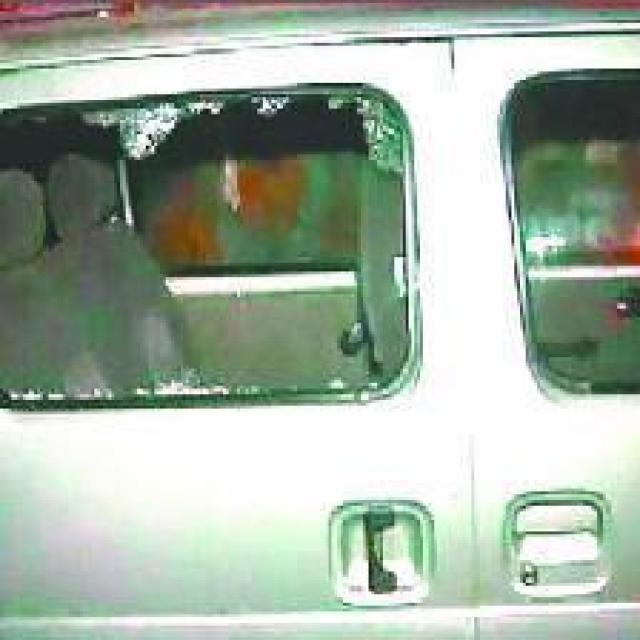damaged: (0, 86, 437, 420)
